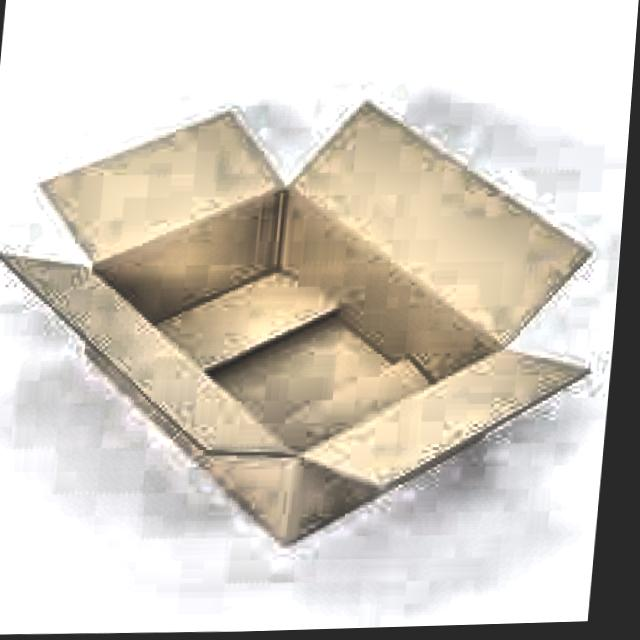Cardbox: (0, 72, 635, 564)
